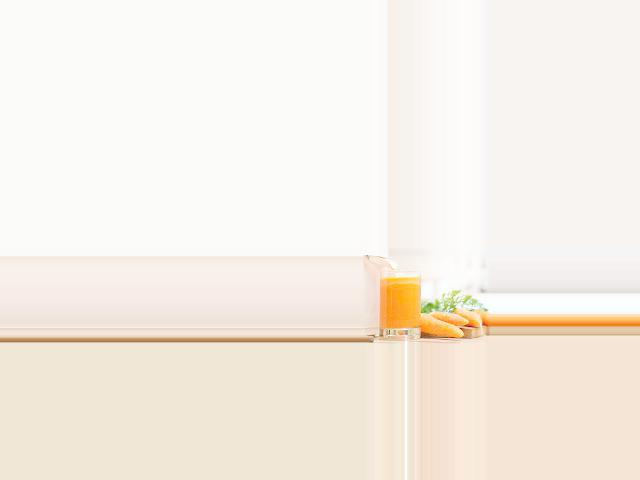carrot: (445, 310, 482, 324)
